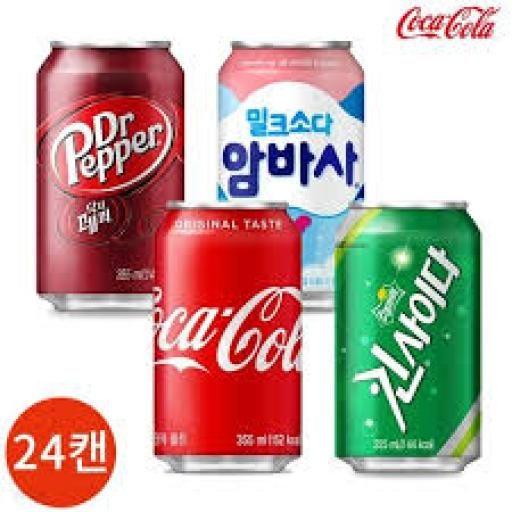Coca: (144, 191, 312, 478)
